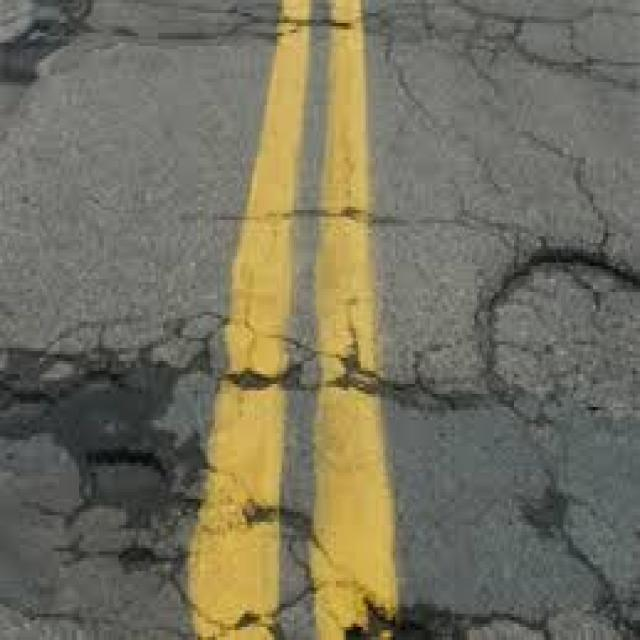Pothole: (30, 368, 198, 640), (497, 272, 640, 417)
